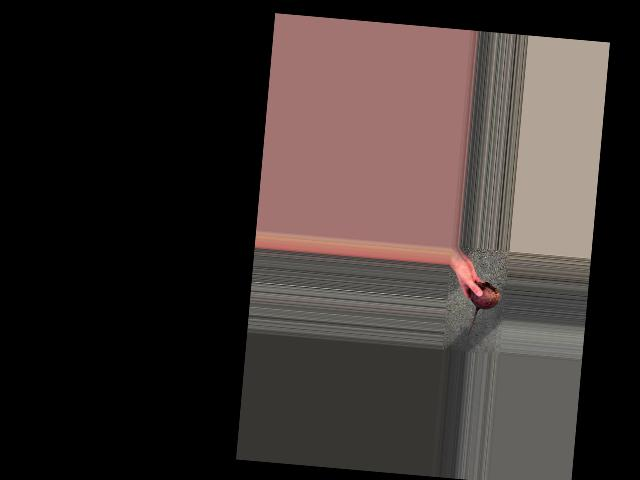beet: (467, 280, 501, 337)
